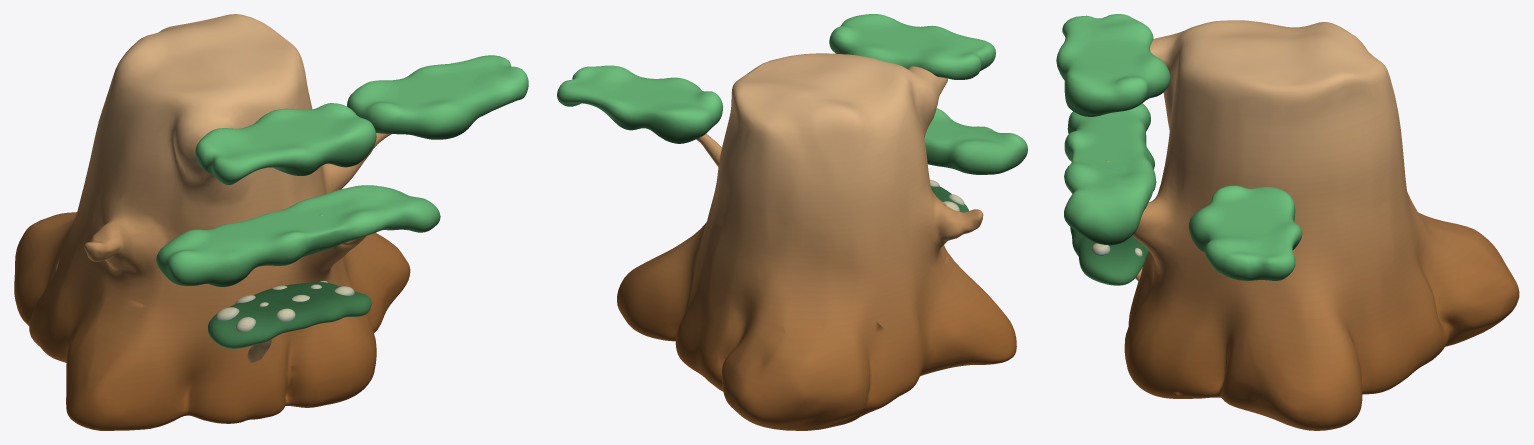
File: TrunkPlatforms.fbx
3 renders of one model, left to right at view 1: azimuth 30°, elevation 25°; view 2: azimuth 150°, elevation 25°; view 3: azimuth 270°, elevation 25°, orthographic. The views are drawn at different scales.
Visible parts, largest first — view 1: Stump, Stump LeafPlatformB G1, Stump Leaf.001, Stump LeafPlatformT G1, Mushroom; view 2: Stump, Stump Leaf.001, Stump LeafPlatformT G1, Stump LeafPlatformB G1, Mushroom; view 3: Stump, Stump LeafPlatformB G1, Stump LeafPlatformT G1, Stump Leaf.001, Mushroom.
Part boxes in pixels (<box>): Stump: <box>14,14,410,430</box>; Stump LeafPlatformB G1: <box>156,185,440,286</box>; Stump Leaf.001: <box>347,55,528,139</box>; Stump LeafPlatformT G1: <box>195,103,376,184</box>; Mushroom: <box>208,281,371,348</box>; Stump: <box>617,53,1016,430</box>; Stump Leaf.001: <box>557,65,723,143</box>; Stump LeafPlatformT G1: <box>829,14,995,79</box>; Stump LeafPlatformB G1: <box>924,108,1027,174</box>; Mushroom: <box>930,179,969,212</box>; Stump: <box>1106,20,1519,430</box>; Stump LeafPlatformB G1: <box>1064,103,1156,245</box>; Stump LeafPlatformT G1: <box>1056,14,1170,116</box>; Stump Leaf.001: <box>1188,185,1302,280</box>; Mushroom: <box>1070,227,1149,285</box>.
Size of the model in its own units: 14.36 by 12.27 by 9.26.
